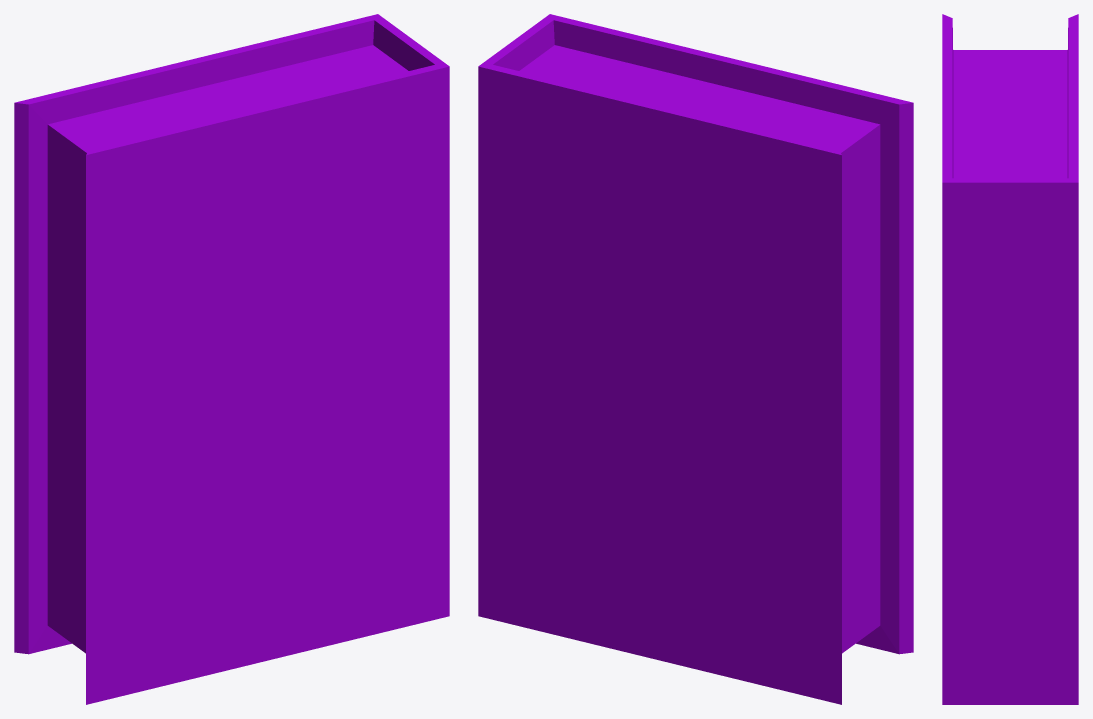
The model's file is sm_book_low.fbx.
3 renders of one model, left to right at view 1: azimuth 30°, elevation 25°; view 2: azimuth 150°, elevation 25°; view 3: azimuth 270°, elevation 25°, orthographic. The views are drawn at different scales.
Parts seen in each view (by area): view 1: polySurface117; view 2: polySurface117; view 3: polySurface117.
Boxes of the visible parts, bbox=[...] form: polySurface117: bbox=[14, 14, 449, 704]; polySurface117: bbox=[478, 14, 913, 704]; polySurface117: bbox=[942, 14, 1078, 704].
Size of the model in its own units: 37.85 by 54.65 by 12.92.
